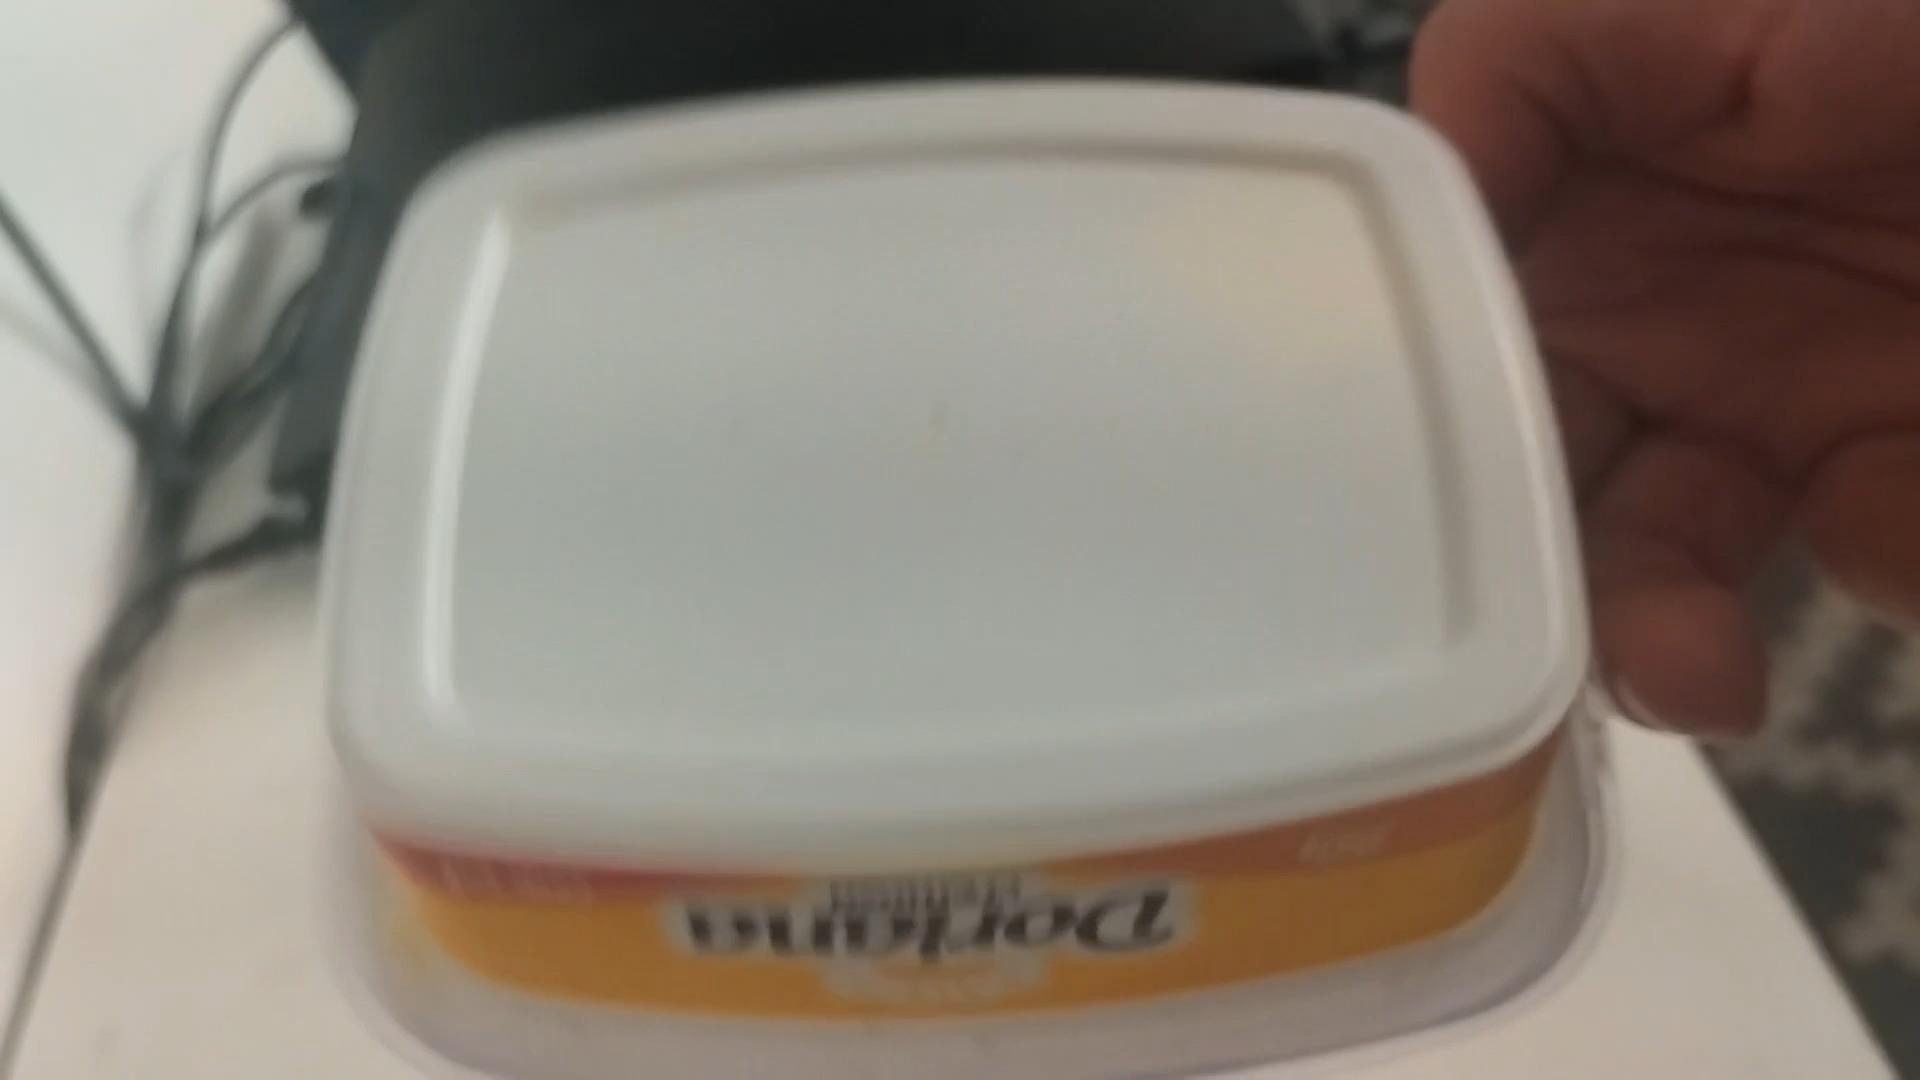butter: (315, 71, 1586, 1073)
